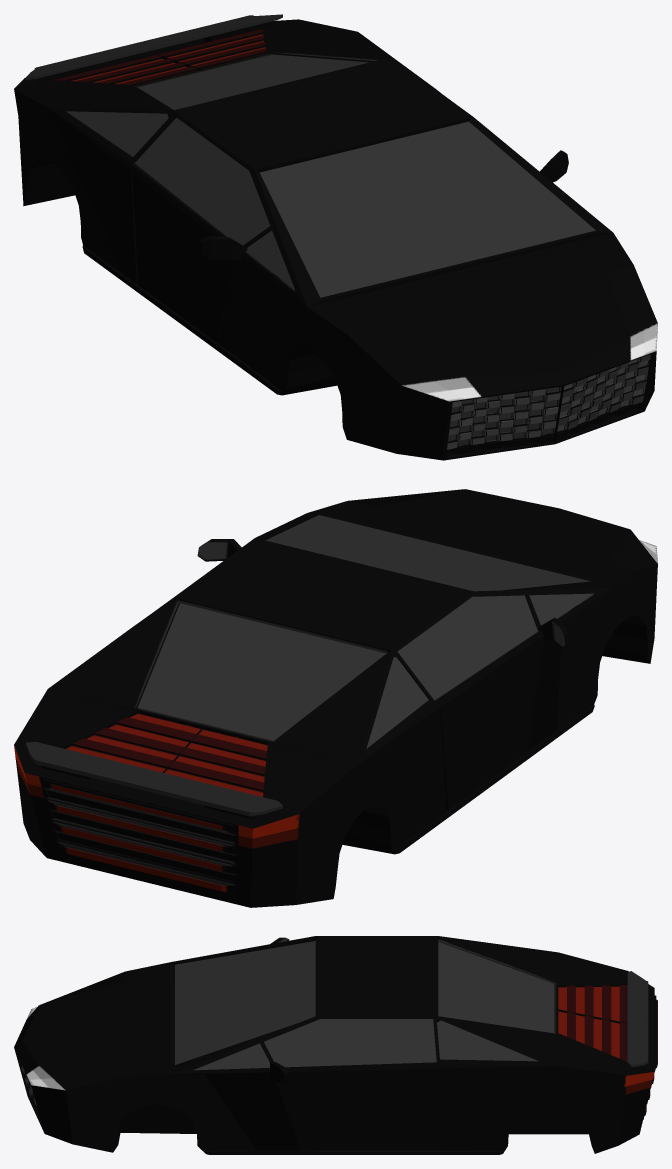
Rendered from sportsCar.fbx.
3 renders of one model, top to bottom at view 1: azimuth 30°, elevation 25°; view 2: azimuth 150°, elevation 25°; view 3: azimuth 270°, elevation 25°, orthographic. The views are drawn at different scales.
Visible parts, largest first — view 1: Cube; view 2: Cube; view 3: Cube.
Part boxes in pixels (left/top/right/bottom): Cube: left=14, top=14, right=657, bottom=460; Cube: left=14, top=489, right=657, bottom=907; Cube: left=14, top=936, right=657, bottom=1154.
Size of the model in its own units: 415 by 173 by 836.
Materials: 1 (1 with a texture image).
